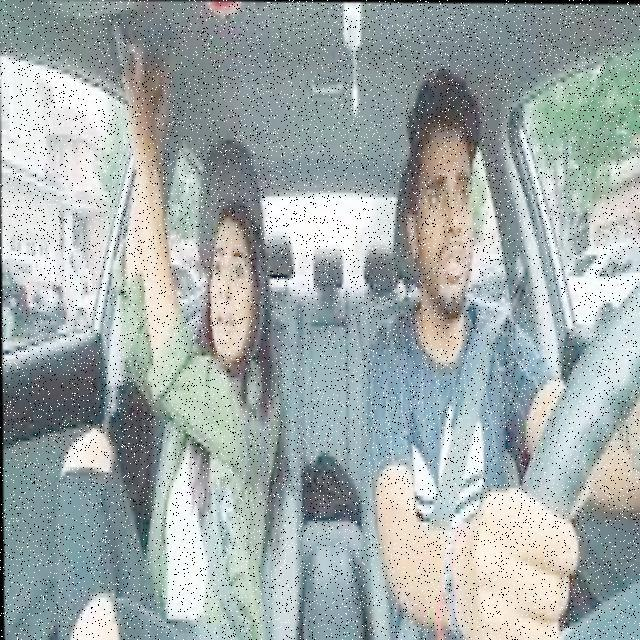seatbelt: (371, 278, 520, 532)
